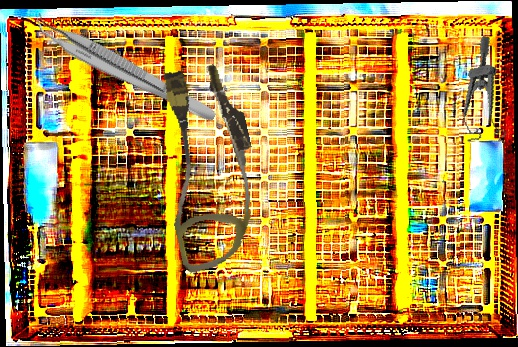Cannula: (140, 58, 277, 275)
Speculum: (443, 33, 516, 154)
Tissue Forceps: (28, 10, 223, 126)
